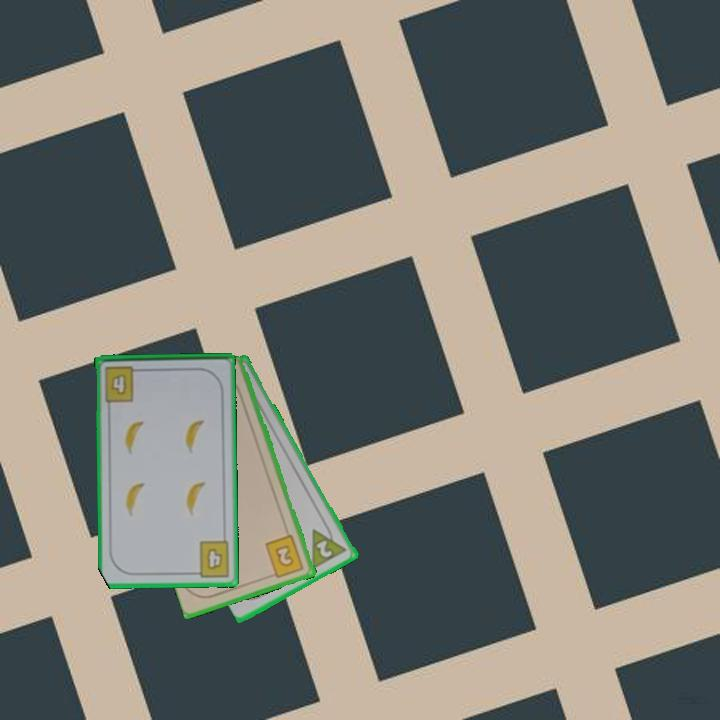2b: (262, 532, 307, 581)
2p: (308, 519, 350, 571)
4b: (189, 537, 233, 580), (101, 362, 144, 404)
